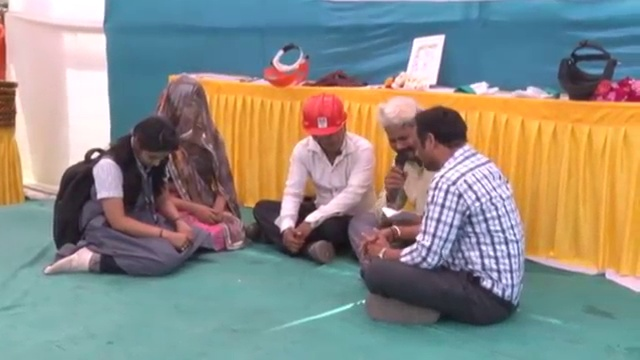helmet: (299, 98, 355, 141)
helmet_off: (415, 106, 469, 174), (161, 73, 212, 142), (124, 115, 180, 174), (378, 95, 424, 162)
helmet_on: (298, 96, 353, 157)
person: (363, 98, 529, 329), (247, 89, 392, 267), (45, 119, 198, 278), (150, 70, 244, 257), (347, 93, 441, 267)
